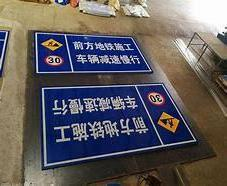sign: (38, 81, 193, 166), (35, 29, 152, 74)
